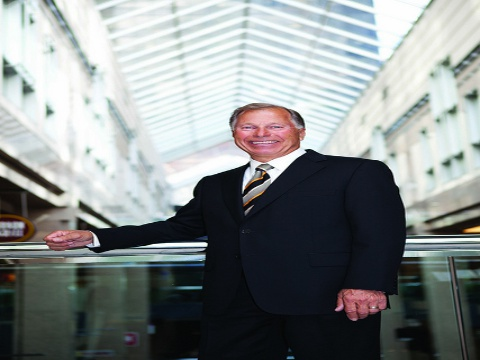hand: (331, 288, 388, 323), (42, 228, 93, 251)
